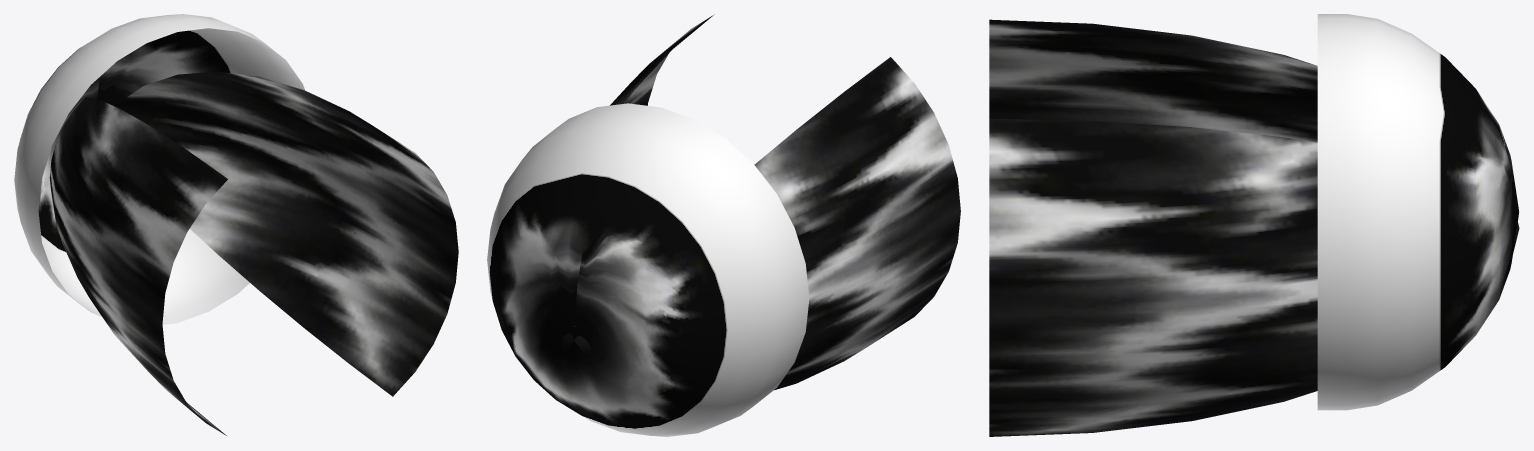
File: donghua #595010.fbx
3 renders of one model, left to right at view 1: azimuth 30°, elevation 25°; view 2: azimuth 150°, elevation 25°; view 3: azimuth 270°, elevation 25°, orthographic. The views are drawn at different scales.
Visible parts, largest first — view 1: ci, donghua; view 2: donghua, ci; view 3: ci, donghua.
Boxes of the visible parts, x1=… form: ci: x1=49, y1=71, x2=458, y2=435; donghua: x1=14, y1=14, x2=304, y2=324; donghua: x1=487, y1=103, x2=809, y2=436; ci: x1=561, y1=14, x2=960, y2=390; ci: x1=989, y1=19, x2=1519, y2=436; donghua: x1=1317, y1=14, x2=1519, y2=410.
Size of the model in its own units: 0.9924 by 0.9317 by 1.25.
